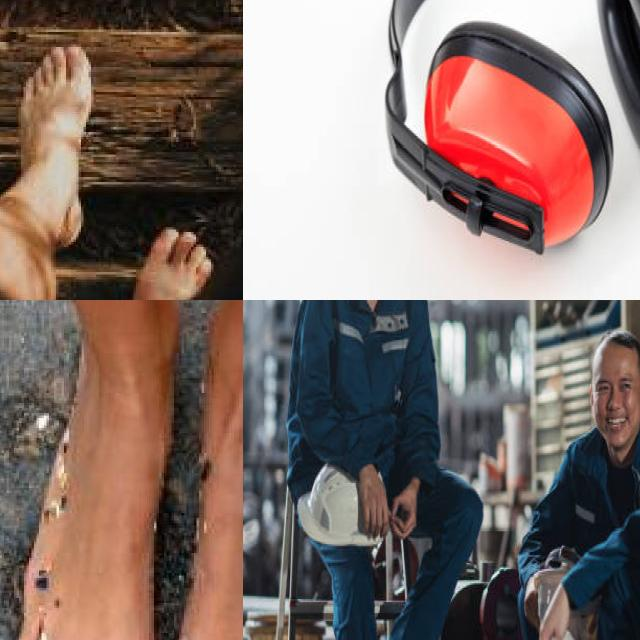Barefoots: (2, 315, 188, 640), (0, 28, 92, 249), (181, 336, 243, 640), (107, 204, 232, 300)
Ear-protection: (365, 0, 640, 248)
No_Ear-Protection: (587, 384, 594, 406)
No_Glasses: (593, 376, 637, 394)
face_nomask: (592, 391, 640, 449)
hand_noglove: (358, 464, 421, 538), (539, 584, 570, 640)
head_nohelmet: (594, 329, 640, 367)
